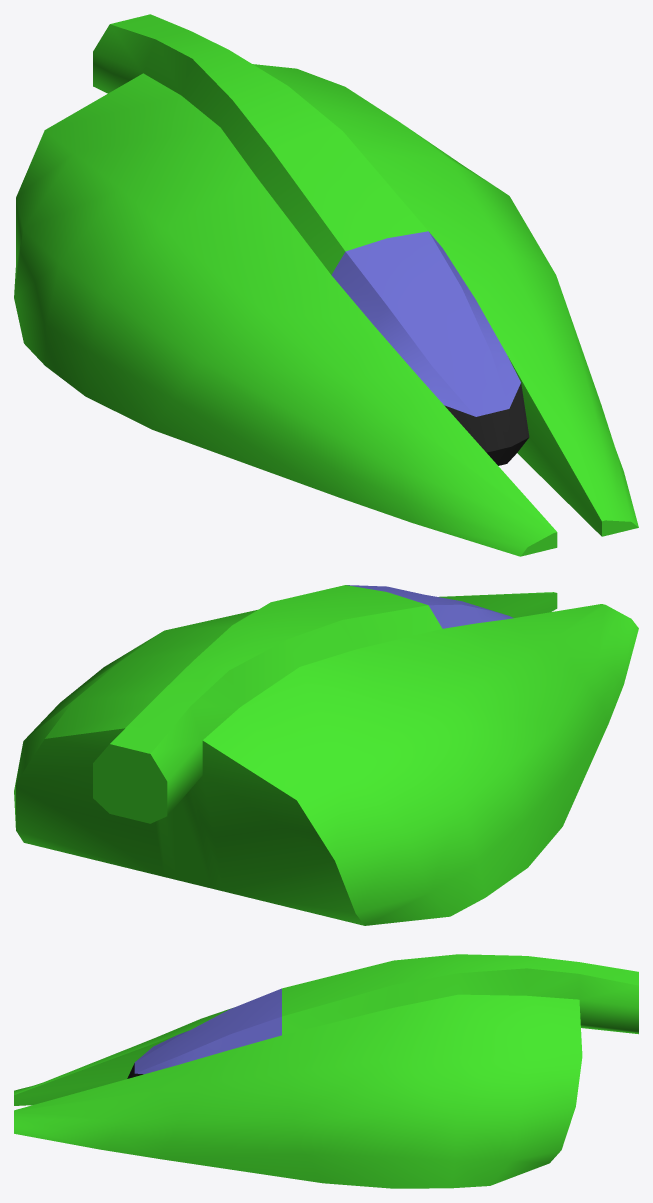
3 views of the same model, one above another, from view 1: azimuth 30°, elevation 25°; view 2: azimuth 150°, elevation 25°; view 3: azimuth 270°, elevation 25° (orthographic). The views are drawn at different scales.
Visible parts, largest first — view 1: Cube; view 2: Cube; view 3: Cube.
Part boxes in pixels (x1=…): Cube: x1=14, y1=14, x2=638, y2=556; Cube: x1=14, y1=585, x2=638, y2=925; Cube: x1=14, y1=954, x2=638, y2=1188.
Bounding box in the file's own units: 239 × 113 × 420.
